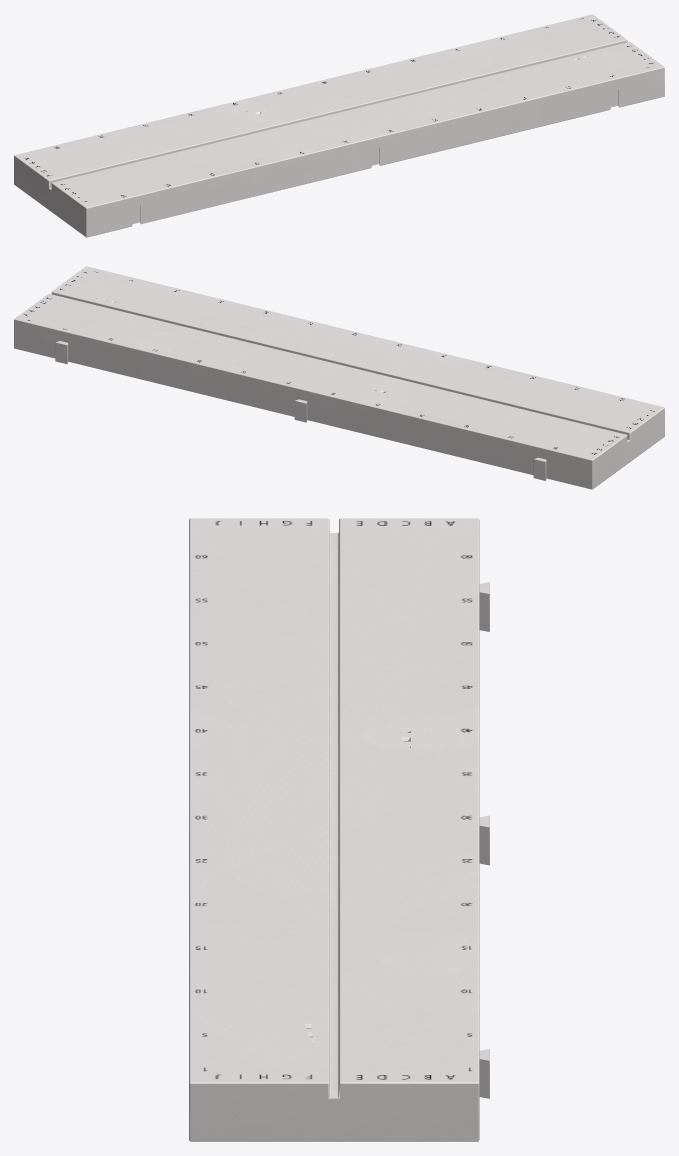
The model's file is Breadboard830tie.fbx.
3 views of the same model, one above another, from view 1: azimuth 30°, elevation 25°; view 2: azimuth 150°, elevation 25°; view 3: azimuth 270°, elevation 25° (orthographic). The views are drawn at different scales.
Parts seen in each view (by area): view 1: 830tie; view 2: 830tie; view 3: 830tie.
Part boxes in pixels (x1,y1,x2,y2): 830tie: [14, 14, 664, 237]; 830tie: [14, 266, 664, 489]; 830tie: [189, 518, 489, 1141].
Size of the model in its own units: 16.3 by 0.8002 by 3.67.
1 material, 1 textured.
